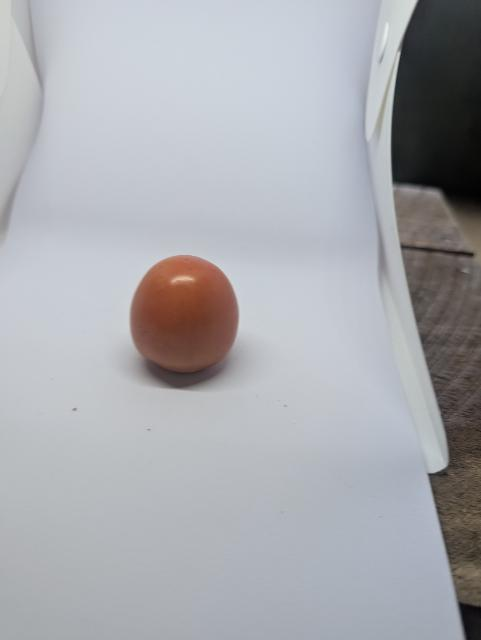red: (125, 244, 252, 391)
